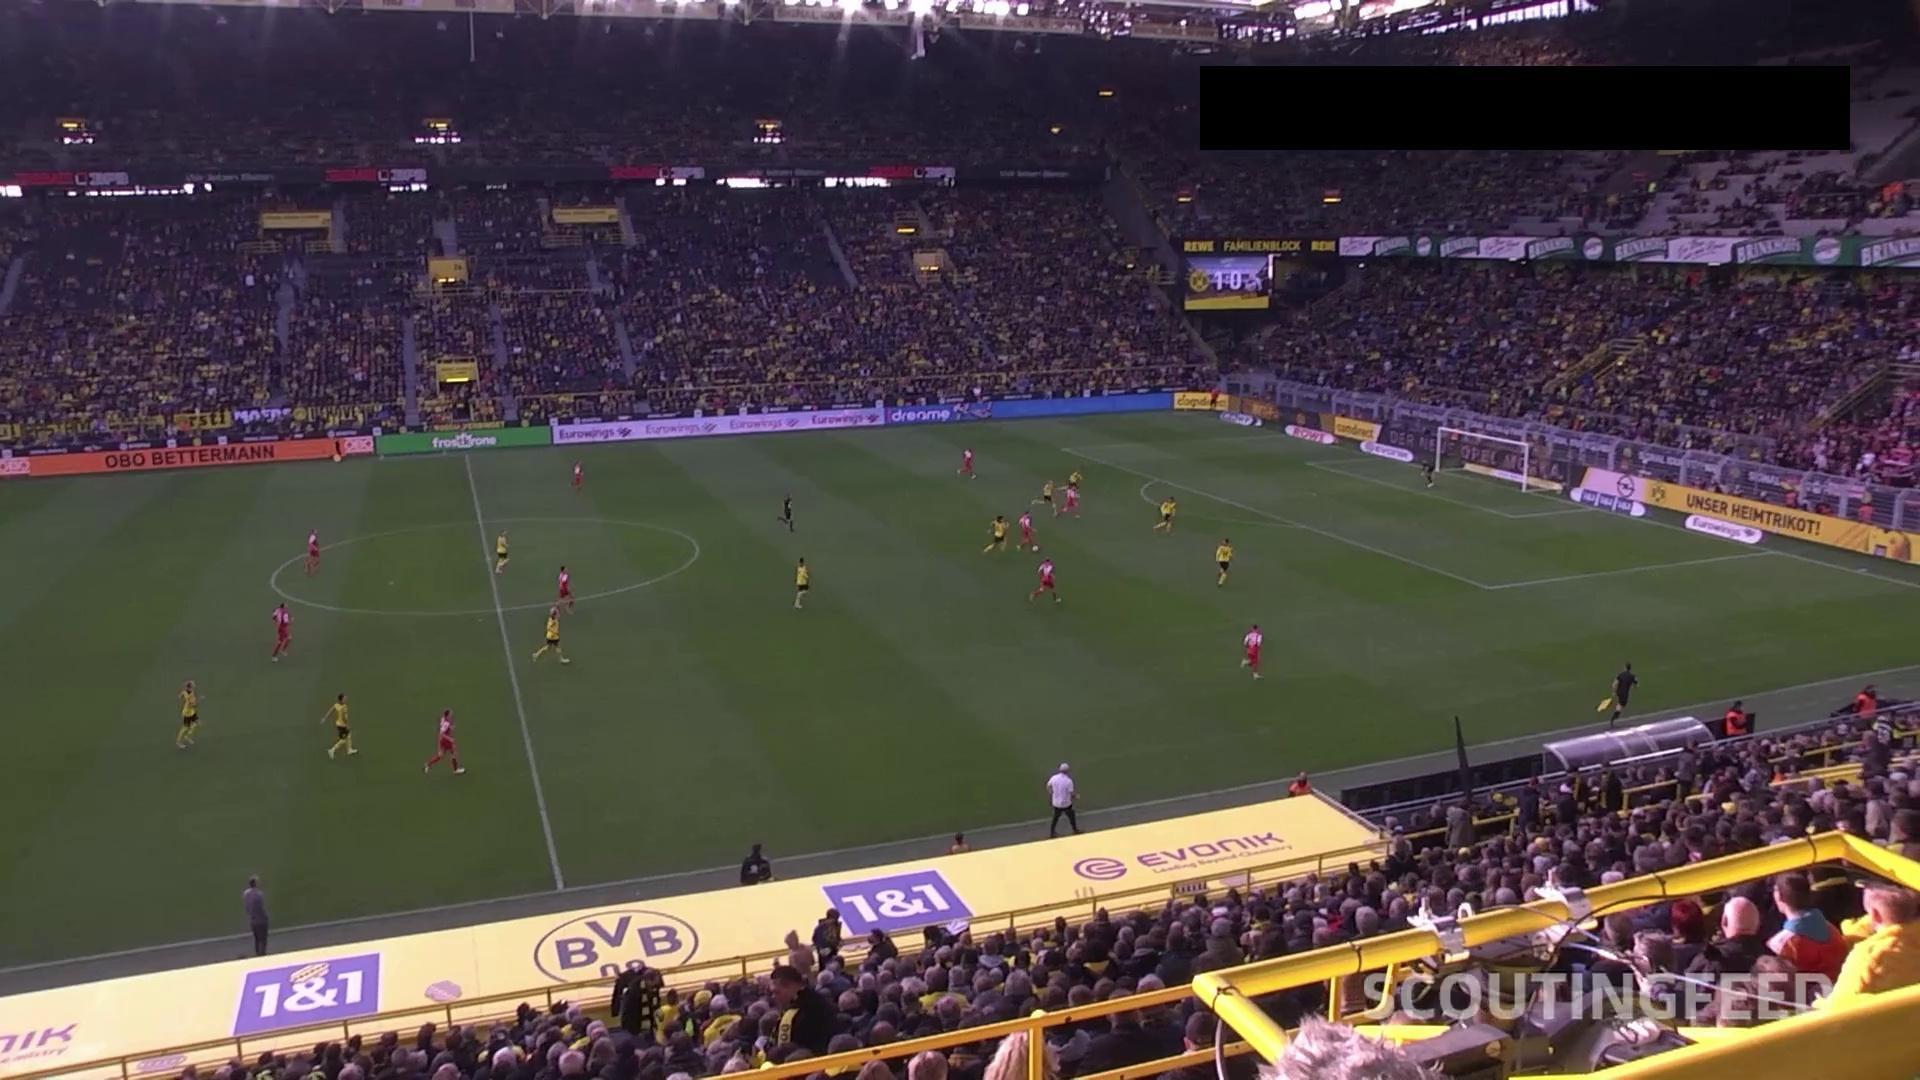Location-of-ball: (1027, 531, 1044, 558)
